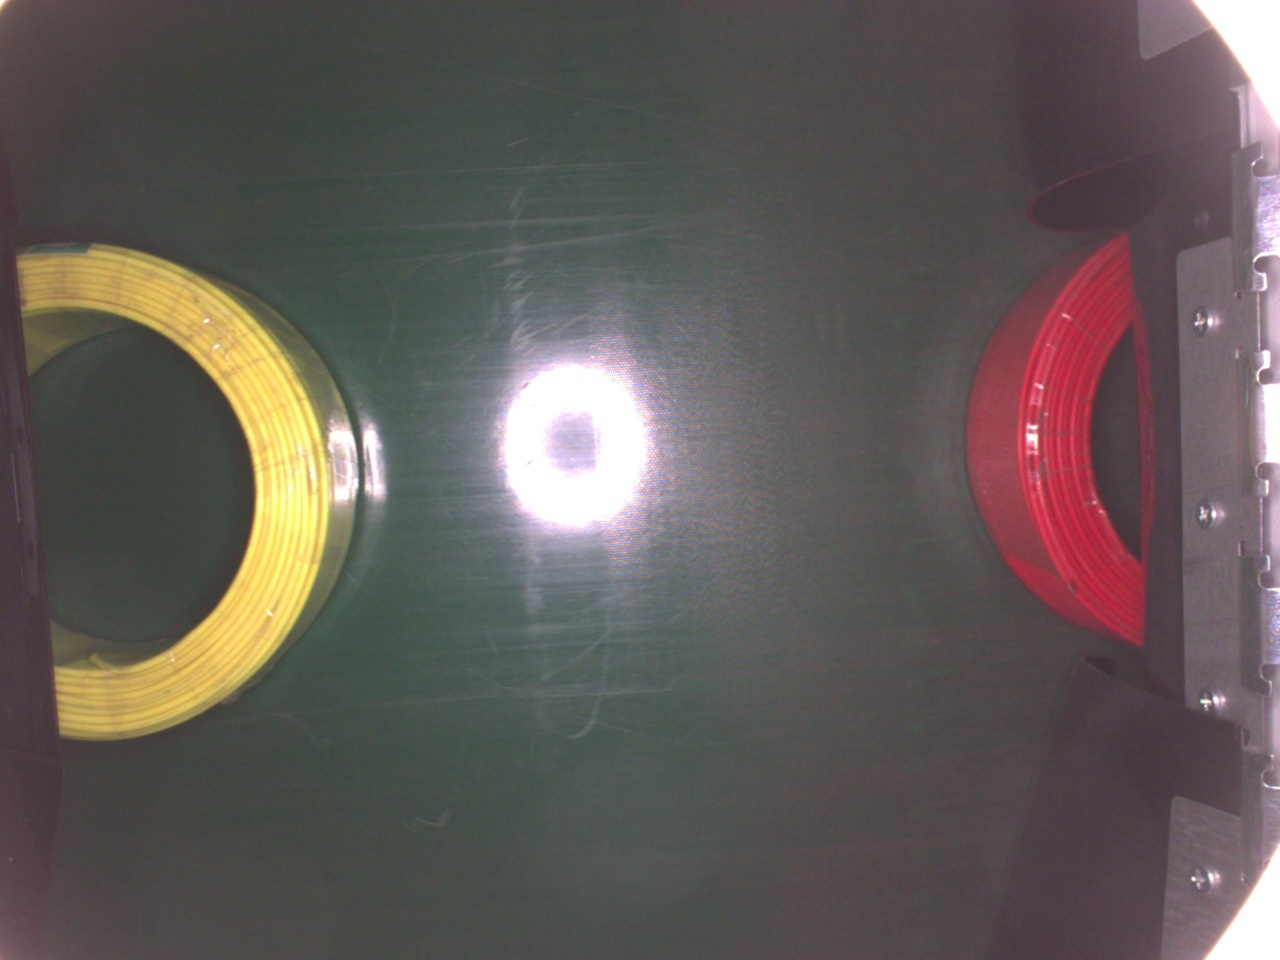red: (962, 224, 1150, 650)
yellow: (13, 233, 361, 746)
